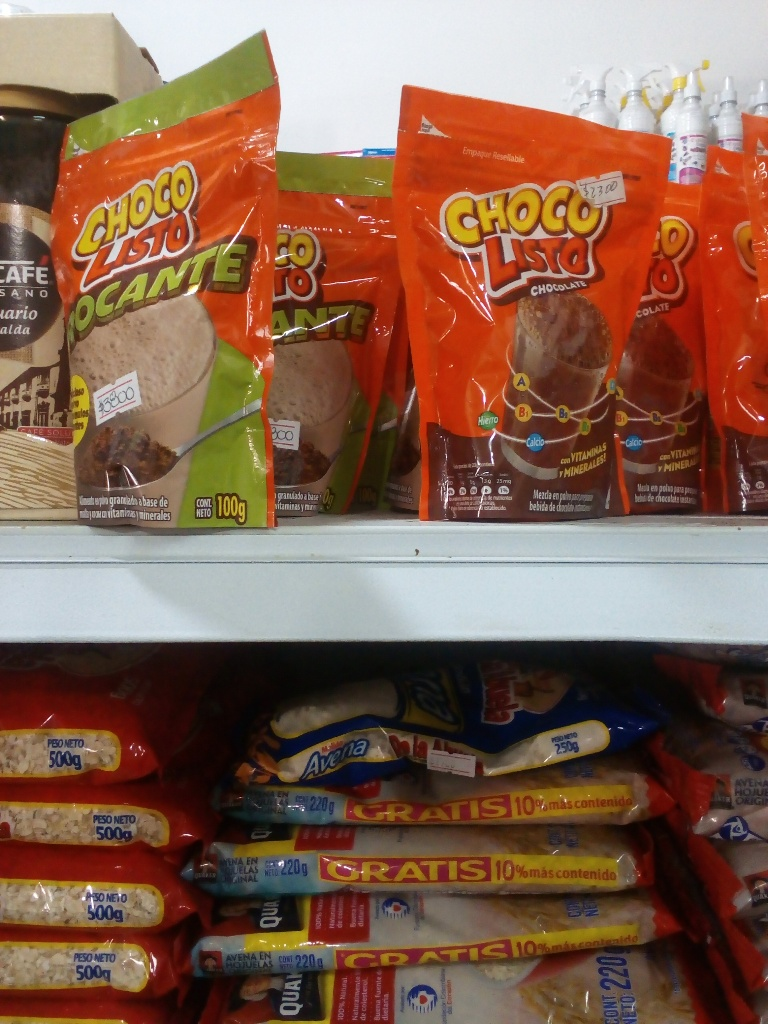COL0170102DYP10000: (65, 17, 281, 534)
